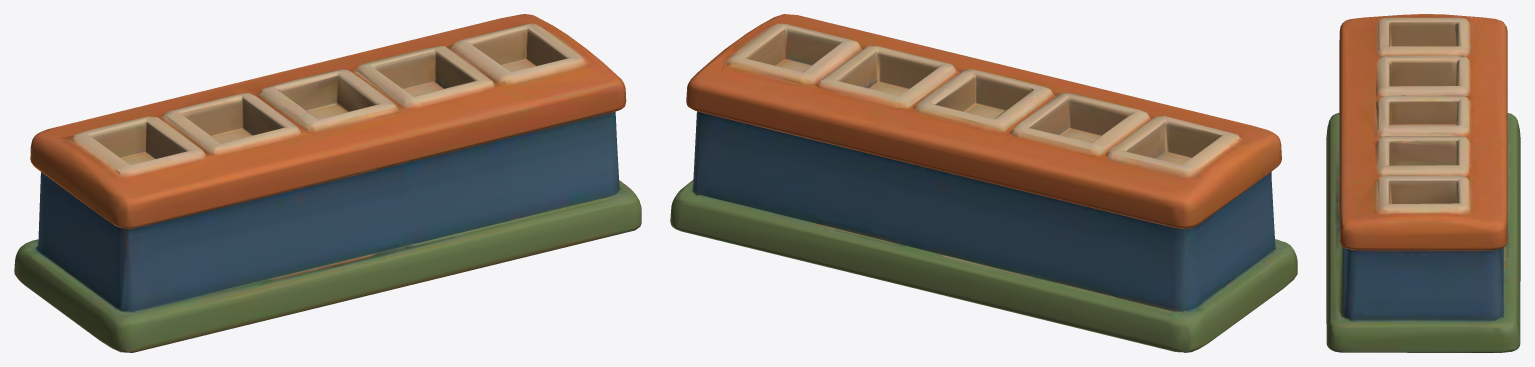
File: next-plinth.lod.glb
The picture shows the model from 3 angles, left to right: view 1: azimuth 30°, elevation 25°; view 2: azimuth 150°, elevation 25°; view 3: azimuth 270°, elevation 25°; orthographic projection. The views are drawn at different scales.
Visible parts, largest first — view 1: textured_mesh.obj; view 2: textured_mesh.obj; view 3: textured_mesh.obj.
Boxes of the visible parts, left/top/right/bottom form: textured_mesh.obj: left=14, top=14, right=641, bottom=352; textured_mesh.obj: left=670, top=14, right=1297, bottom=352; textured_mesh.obj: left=1326, top=14, right=1520, bottom=352.
Bounding box in the file's own units: 3.52 × 0.9993 × 1.32.
Materials: 1 (1 with a texture image).
